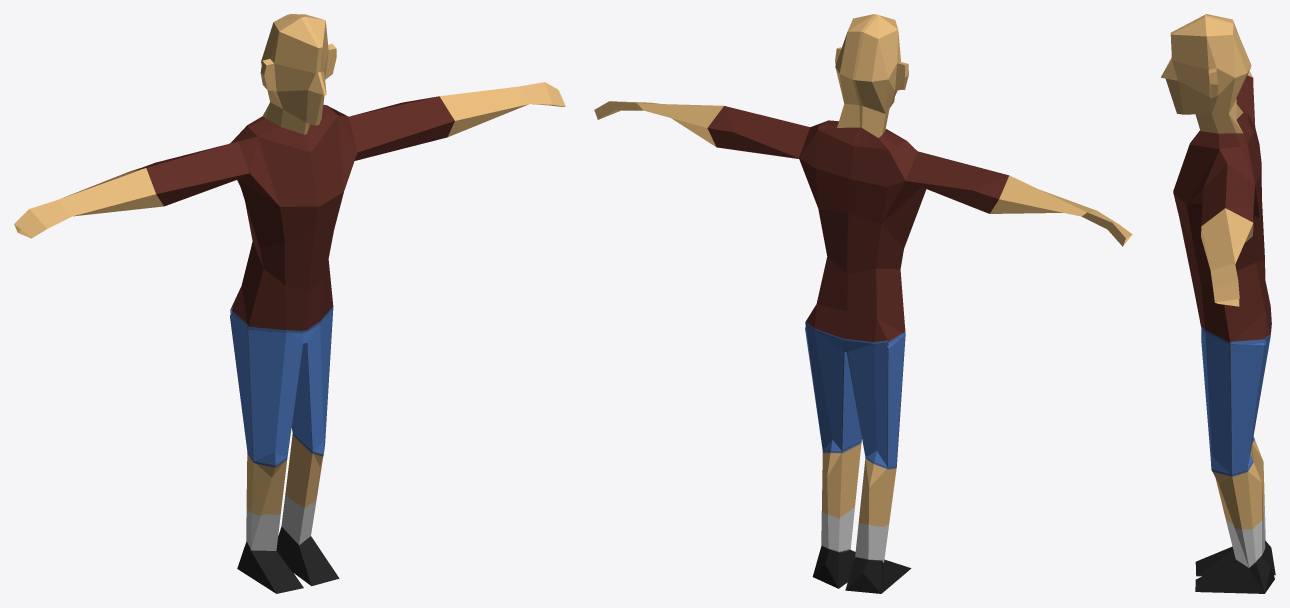
Rendered from Man.fbx.
The picture shows the model from 3 angles, left to right: view 1: azimuth 30°, elevation 25°; view 2: azimuth 150°, elevation 25°; view 3: azimuth 270°, elevation 25°; orthographic projection. The views are drawn at different scales.
Visible parts, largest first — view 1: polySurface2; view 2: polySurface2; view 3: polySurface2.
Boxes of the visible parts, bbox=[...] form: polySurface2: bbox=[14, 14, 565, 593]; polySurface2: bbox=[594, 14, 1132, 593]; polySurface2: bbox=[1161, 14, 1275, 593].
Bounding box in the file's own units: 14.98 × 14.86 × 2.75.
Materials: 1 (1 with a texture image).
